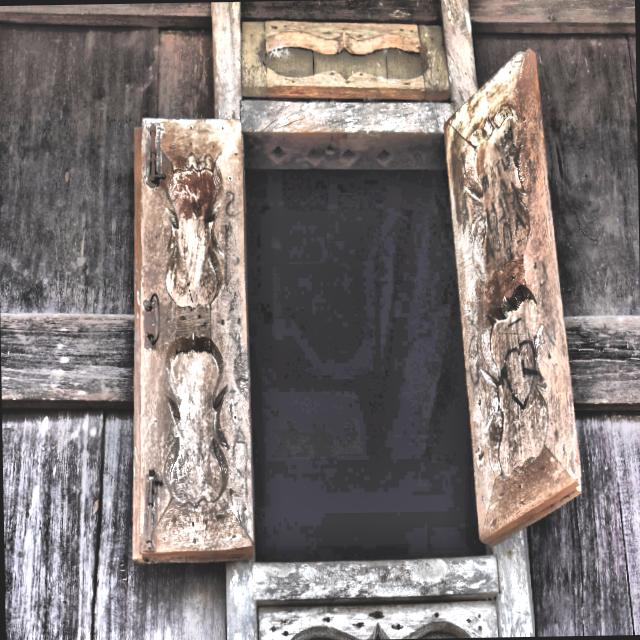wall: (0, 0, 640, 640)
window: (132, 49, 581, 604)
